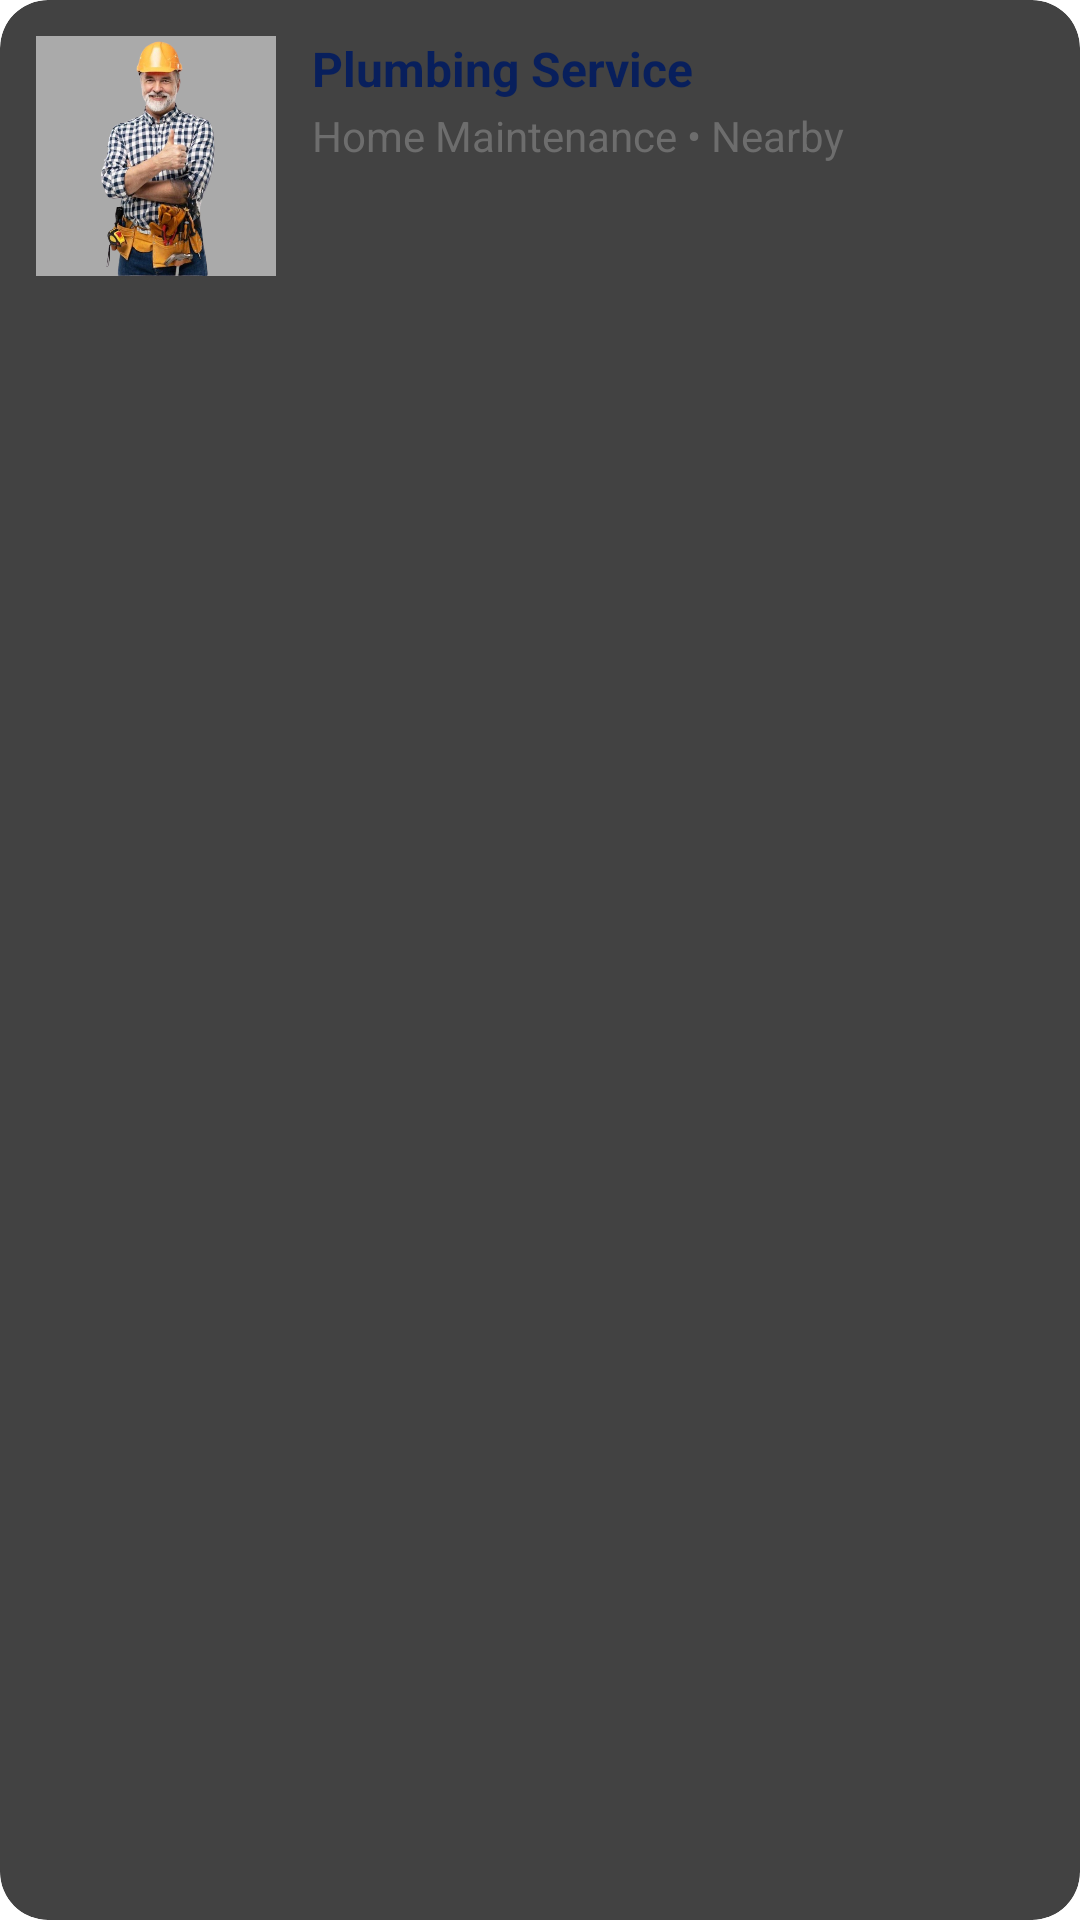

Icons on this 1080 × 1920 Android screen, each with its box as detection(x1, y1, x2, y2):
man: detection(36, 36, 276, 276)
